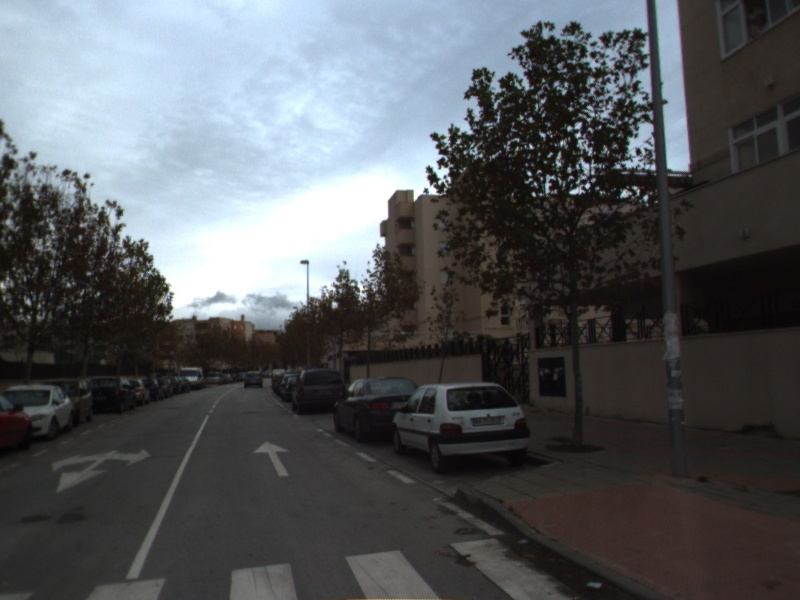STRAIGHT: (251, 439, 293, 478)
